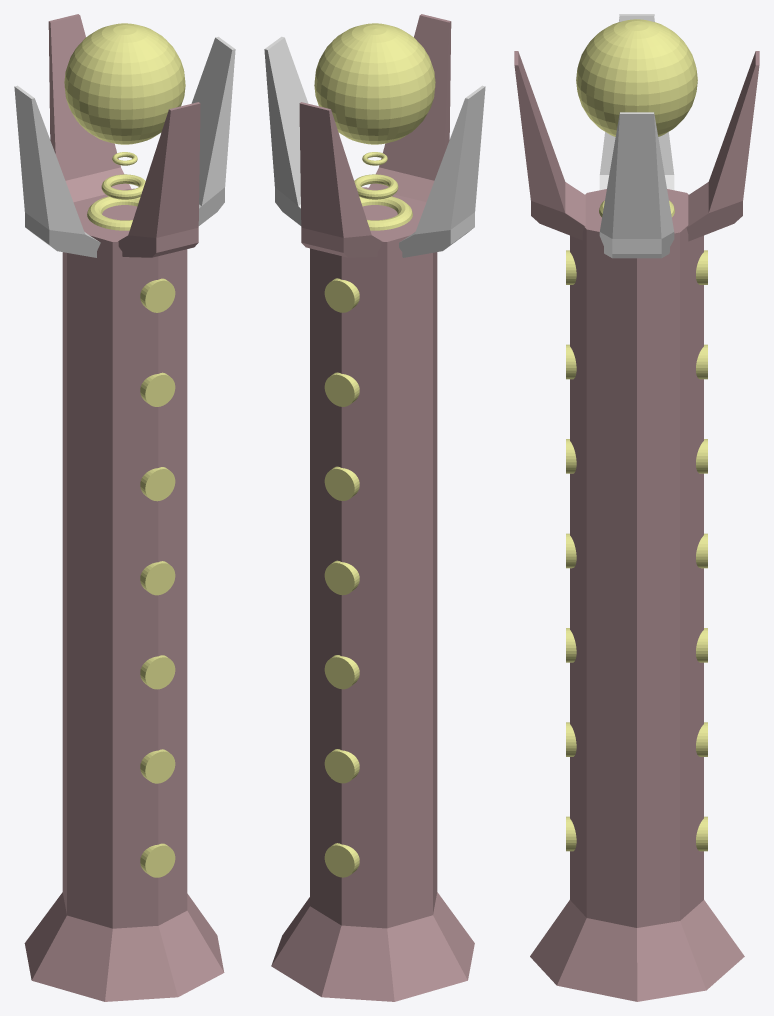
Rendered from Batiment7.fbx.
The picture shows the model from 3 angles, left to right: view 1: azimuth 30°, elevation 25°; view 2: azimuth 150°, elevation 25°; view 3: azimuth 270°, elevation 25°; orthographic projection.
Visible parts, largest first — view 1: Cube.029, Cube.032, Cube.030, Sphere, Cylinder.008, Torus, Torus.001; view 2: Cube.029, Cube.032, Cube.030, Sphere, Cylinder.008, Torus, Torus.001; view 3: Cube.029, Cube.032, Sphere, Cube.030, Cylinder.008.
Part boxes in pixels (x1=…): Cube.029: x1=24, y1=188, x2=224, y2=1001; Cube.032: x1=48, y1=14, x2=200, y2=257; Cube.030: x1=14, y1=36, x2=235, y2=257; Sphere: x1=64, y1=23, x2=185, y2=144; Cylinder.008: x1=140, y1=278, x2=175, y2=877; Torus: x1=87, y1=196, x2=140, y2=230; Torus.001: x1=101, y1=174, x2=145, y2=199; Cube.029: x1=271, y1=187, x2=474, y2=1001; Cube.032: x1=299, y1=14, x2=451, y2=257; Cube.030: x1=264, y1=36, x2=485, y2=257; Sphere: x1=314, y1=23, x2=435, y2=144; Cylinder.008: x1=324, y1=278, x2=359, y2=877; Torus: x1=359, y1=196, x2=412, y2=230; Torus.001: x1=354, y1=174, x2=398, y2=199; Cube.029: x1=530, y1=189, x2=744, y2=1001; Cube.032: x1=514, y1=51, x2=759, y2=241; Sphere: x1=576, y1=19, x2=697, y2=136; Cube.030: x1=599, y1=14, x2=674, y2=258; Cylinder.008: x1=566, y1=250, x2=707, y2=851.
Size of the model in its own units: 200 by 869 by 207.
